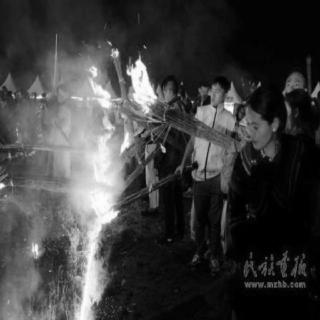Fire: (29, 24, 157, 318)
